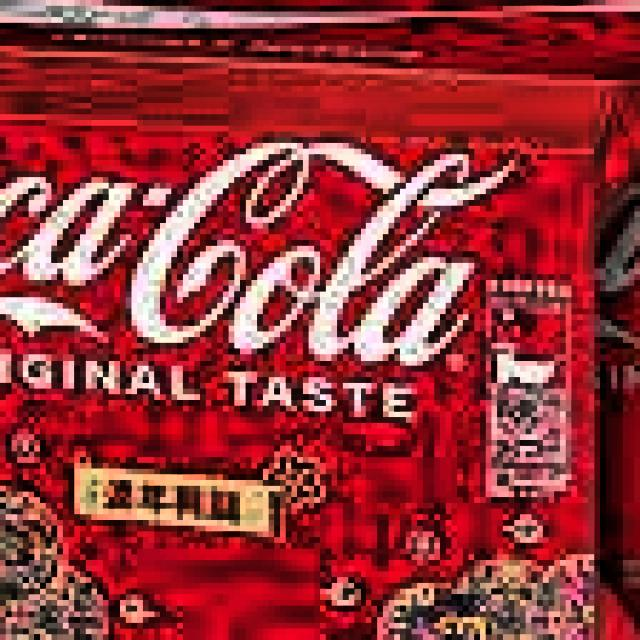metal: (577, 23, 640, 640)
